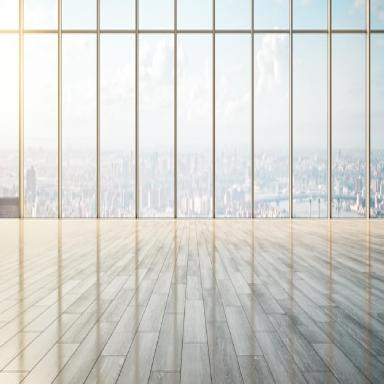glass_panel: (177, 34, 213, 216), (100, 34, 136, 216), (332, 34, 368, 216), (216, 34, 251, 216), (255, 34, 290, 216), (139, 33, 174, 214), (294, 35, 329, 214), (23, 35, 58, 214), (62, 35, 96, 214), (1, 34, 17, 216), (370, 34, 384, 215), (100, 0, 135, 30), (216, 0, 252, 29), (293, 0, 327, 30), (139, 0, 174, 29), (177, 0, 212, 29), (62, 0, 97, 29), (24, 0, 57, 30), (371, 0, 384, 30)
